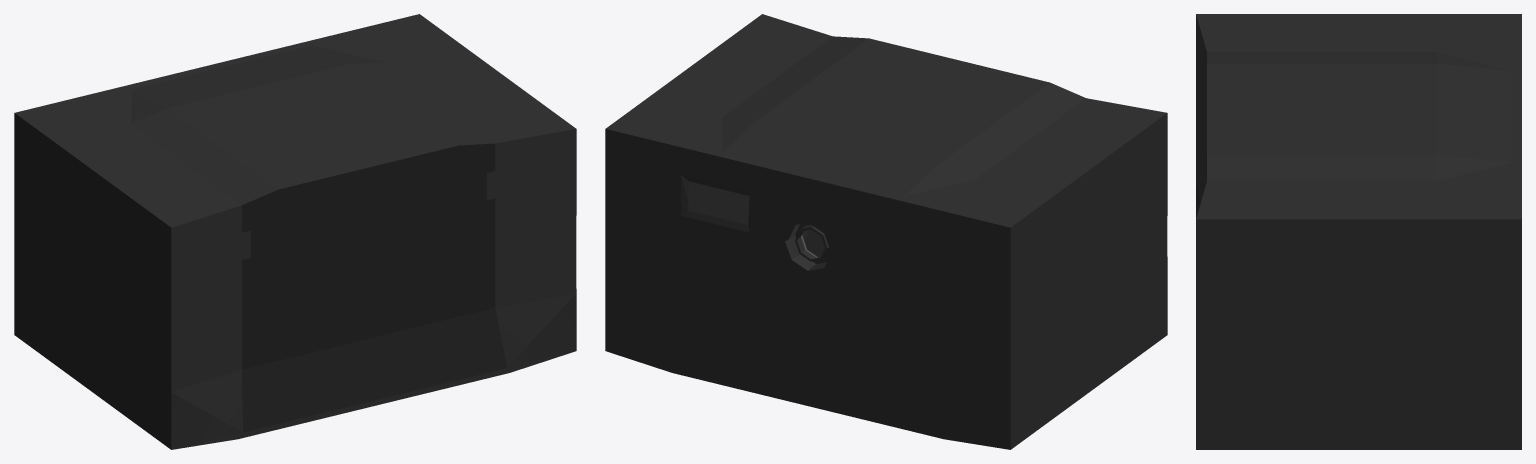
The model's file is tnk4.obj.
3 views of the same model, side by side, from view 1: azimuth 30°, elevation 25°; view 2: azimuth 150°, elevation 25°; view 3: azimuth 270°, elevation 25° (orthographic). The views are drawn at different scales.
Parts seen in each view (by area): view 1: Cube; view 2: Cube; view 3: Cube.
Boxes of the visible parts, left/top/right/bottom form: Cube: left=14, top=14, right=576, bottom=449; Cube: left=605, top=14, right=1167, bottom=449; Cube: left=1196, top=14, right=1521, bottom=449.
Bounding box in the file's own units: 15.02 × 8.31 × 10.07.
1 material, 1 textured.
